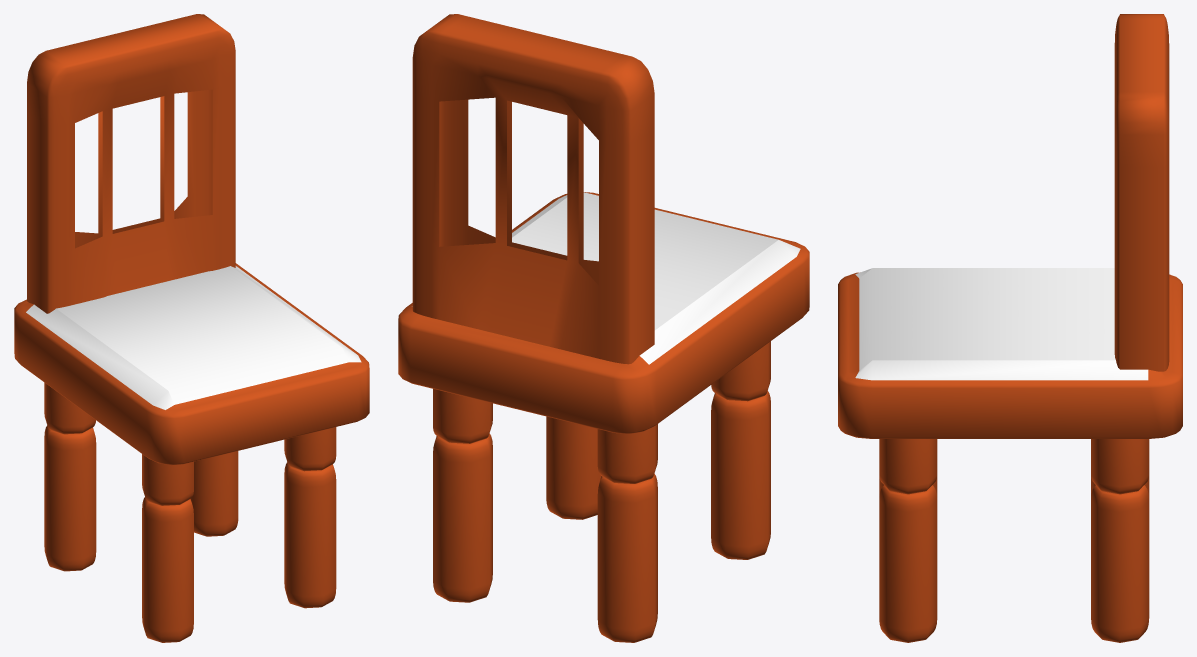
File: isu.fbx
The picture shows the model from 3 angles, left to right: view 1: azimuth 30°, elevation 25°; view 2: azimuth 150°, elevation 25°; view 3: azimuth 270°, elevation 25°; orthographic projection. The views are drawn at different scales.
Visible parts, largest first — view 1: isu; view 2: isu; view 3: isu.
Boxes of the visible parts, x1,y1,x2,y2 form: isu: (14, 14, 369, 642); isu: (398, 14, 809, 642); isu: (838, 14, 1182, 642).
Bounding box in the file's own units: 47.32 × 103 × 59.82.
